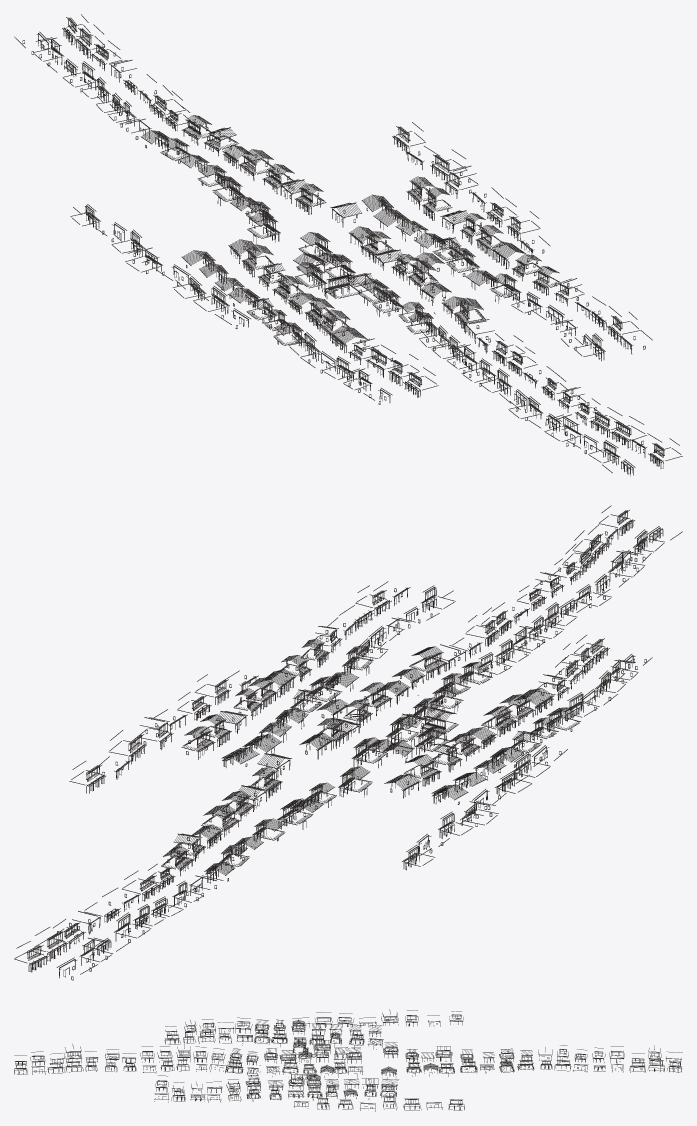
File: canal_timber.glb
3 views of the same model, one above another, from view 1: azimuth 30°, elevation 25°; view 2: azimuth 150°, elevation 25°; view 3: azimuth 270°, elevation 25° (orthographic). The views are drawn at different scales.
Parts seen in each view (by area): view 1: canal_timber6, canal_timber2, canal_timber5, canal_timber3, canal_timber4, canal_timber0, canal_timber1, canal_timber7; view 2: canal_timber6, canal_timber2, canal_timber3, canal_timber5, canal_timber4, canal_timber1, canal_timber0, canal_timber7; view 3: canal_timber6, canal_timber2, canal_timber3, canal_timber5, canal_timber0, canal_timber4, canal_timber1, canal_timber7.
Part boxes in pixels (left/top/right/bottom): canal_timber6: left=70, top=122, right=652, bottom=361; canal_timber2: left=197, top=149, right=682, bottom=476; canal_timber5: left=300, top=176, right=504, bottom=404; canal_timber3: left=14, top=14, right=275, bottom=271; canal_timber4: left=199, top=239, right=361, bottom=361; canal_timber0: left=293, top=226, right=451, bottom=316; canal_timber1: left=212, top=163, right=472, bottom=337; canal_timber7: left=411, top=149, right=550, bottom=319; canal_timber6: left=69, top=581, right=567, bottom=870; canal_timber2: left=203, top=505, right=682, bottom=841; canal_timber3: left=14, top=784, right=468, bottom=980; canal_timber5: left=181, top=635, right=652, bottom=767; canal_timber4: left=384, top=688, right=599, bottom=798; canal_timber1: left=220, top=652, right=492, bottom=829; canal_timber0: left=299, top=680, right=463, bottom=768; canal_timber7: left=109, top=670, right=418, bottom=756; canal_timber6: left=154, top=1009, right=464, bottom=1110; canal_timber2: left=14, top=1044, right=476, bottom=1074; canal_timber3: left=369, top=1025, right=682, bottom=1073; canal_timber5: left=164, top=1019, right=398, bottom=1100; canal_timber0: left=264, top=1040, right=362, bottom=1078; canal_timber4: left=235, top=1017, right=383, bottom=1049; canal_timber1: left=227, top=1040, right=454, bottom=1081; canal_timber7: left=259, top=1065, right=421, bottom=1111.
Bounding box in the file's own units: 118 × 8.88 × 347.
Materials: 1 (1 with a texture image).
